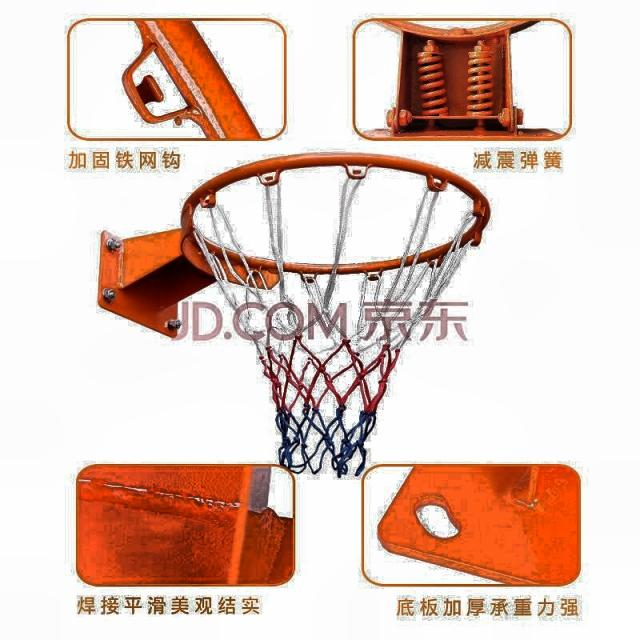rim: (181, 152, 490, 478)
